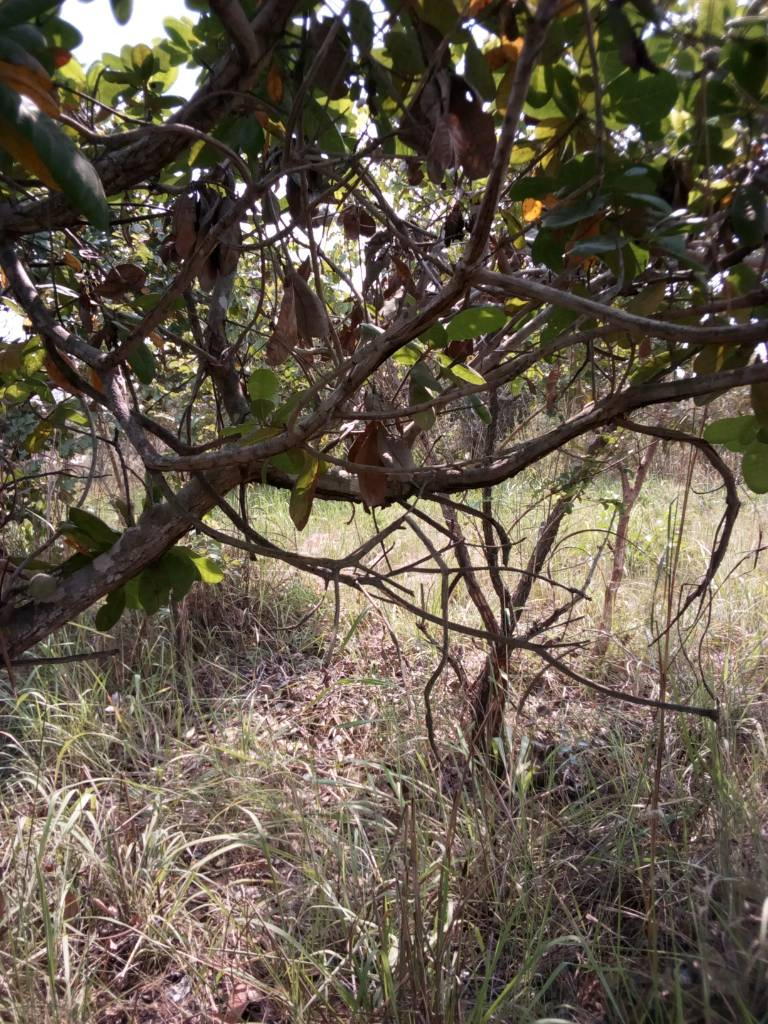Dessèchement des bourgeons: (269, 263, 329, 352)
